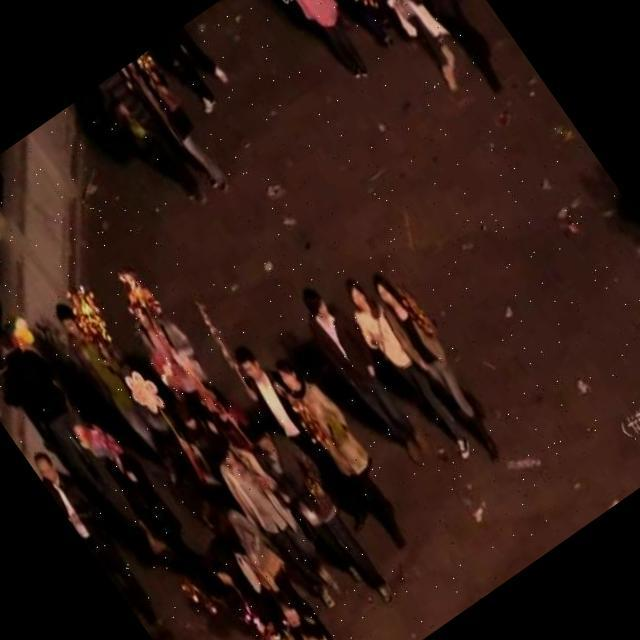person: (230, 398, 410, 625), (258, 342, 430, 558), (36, 286, 202, 497), (190, 413, 356, 622), (283, 276, 447, 482), (24, 435, 184, 640), (361, 262, 520, 466), (327, 269, 483, 471), (123, 50, 240, 196), (362, 0, 525, 101), (99, 68, 210, 210), (267, 0, 386, 89)
